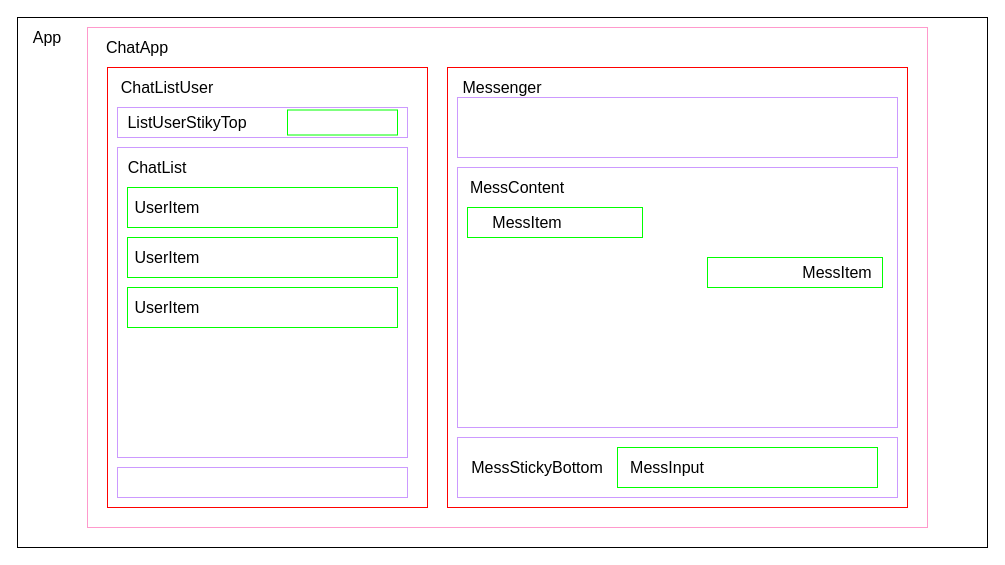
The diagram is 1005 pixels wide and 565 high, and some of its shapes have lost their labels. The box of each missing label's shape, as (x1, y1, x2, y2) in pixels:
ChatListInput: (286, 109, 398, 135)
ListUserStikyBottom: (116, 466, 408, 498)
MessStickyTop: (456, 96, 898, 158)
